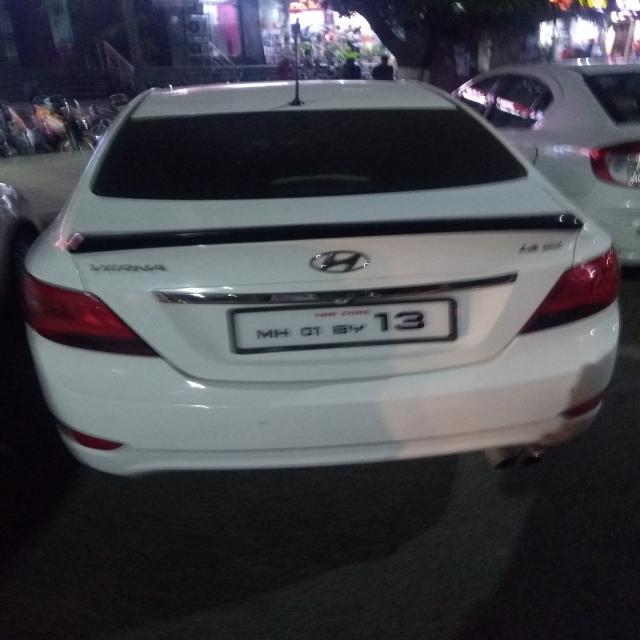Number-Plate: (240, 303, 454, 351)
